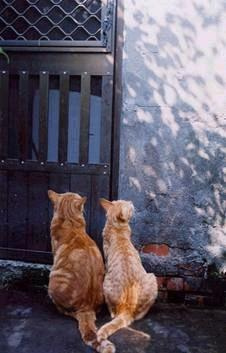cat: (47, 190, 116, 353), (99, 197, 159, 353)
